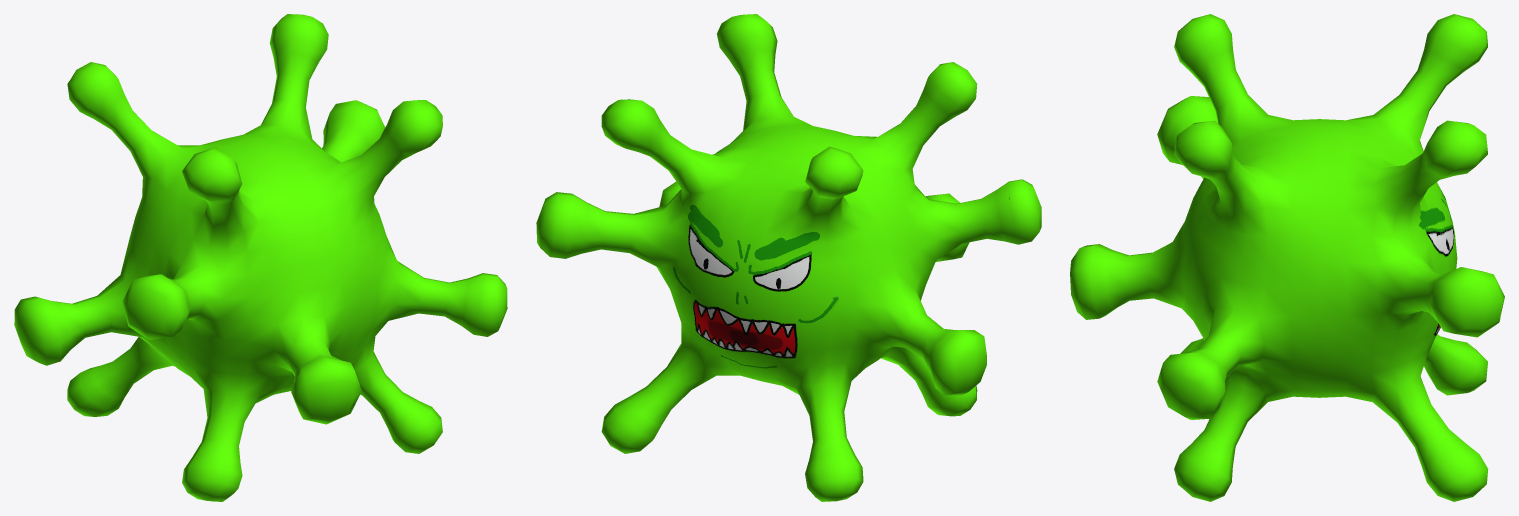
Rendered from Enemy_001.fbx.
3 renders of one model, left to right at view 1: azimuth 30°, elevation 25°; view 2: azimuth 150°, elevation 25°; view 3: azimuth 270°, elevation 25°, orthographic. The views are drawn at different scales.
Parts seen in each view (by area): view 1: Cube.012; view 2: Cube.012; view 3: Cube.012.
Part boxes in pixels (x1=…): Cube.012: x1=14, y1=14, x2=507, y2=501; Cube.012: x1=536, y1=14, x2=1041, y2=501; Cube.012: x1=1070, y1=14, x2=1504, y2=501.
Bounding box in the file's own units: 122 × 102 × 107.
